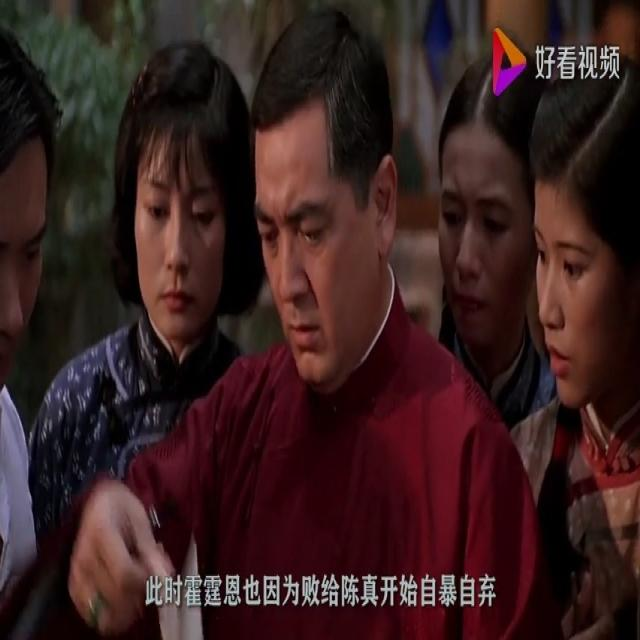non-fight: (59, 0, 536, 640), (29, 37, 259, 640)
